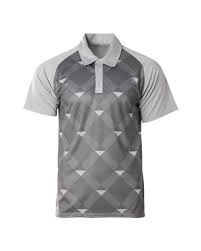S_polo shirt: (25, 33, 183, 221)
